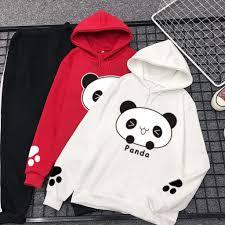sweater: (41, 40, 210, 224), (23, 9, 142, 190)
